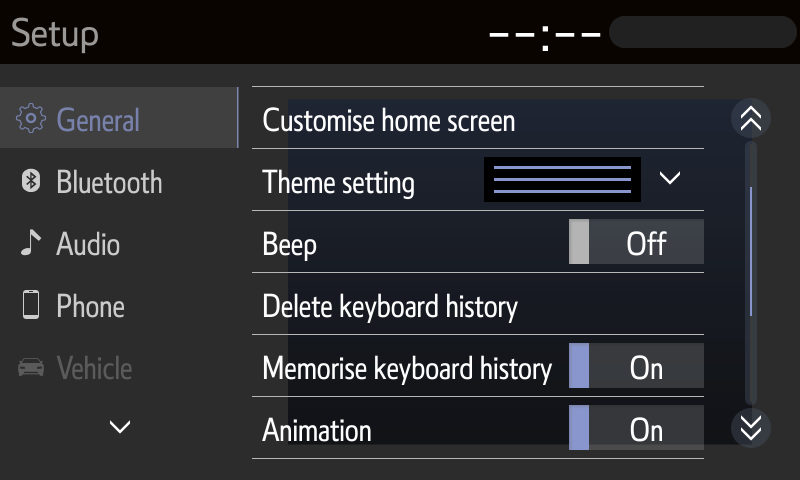touchPart: (250, 80, 706, 153), (251, 206, 706, 279), (249, 329, 713, 400), (243, 394, 714, 463), (250, 269, 713, 339), (251, 145, 708, 214), (14, 221, 166, 267), (12, 283, 169, 327), (14, 160, 168, 203), (728, 94, 771, 139), (732, 409, 772, 450), (102, 410, 140, 443)
untouchPart: (2, 84, 242, 152), (487, 17, 798, 51), (14, 349, 173, 385), (9, 15, 101, 57)
